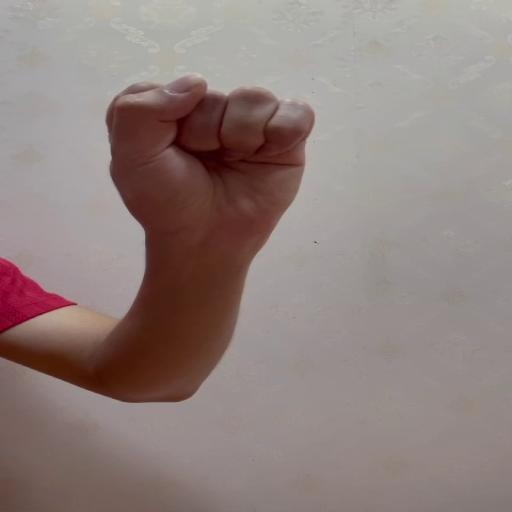fist: (107, 70, 317, 230)
